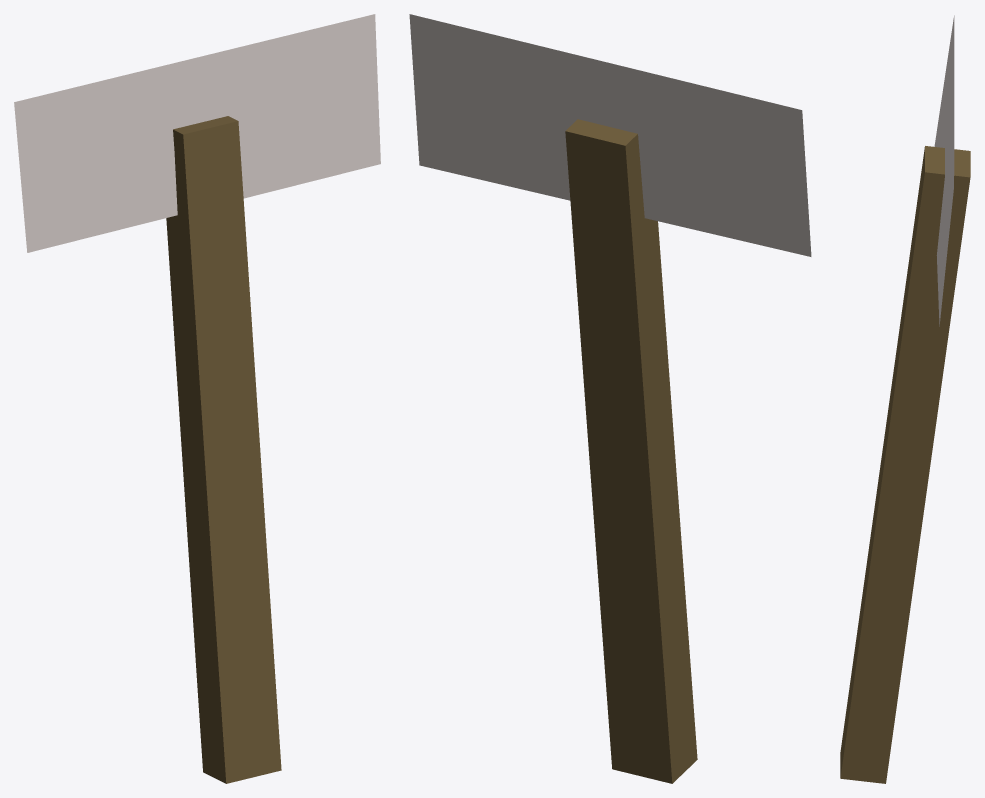
File: battleaxe.gltf
3 views of the same model, side by side, from view 1: azimuth 30°, elevation 25°; view 2: azimuth 150°, elevation 25°; view 3: azimuth 270°, elevation 25° (orthographic). The views are drawn at different scales.
Parts seen in each view (by area): view 1: Cube.001, Cube.002; view 2: Cube.001, Cube.002; view 3: Cube.001, Cube.002.
Part boxes in pixels (bbox=[...]): Cube.001: bbox=[166, 116, 281, 783]; Cube.002: bbox=[14, 14, 380, 252]; Cube.001: bbox=[565, 119, 697, 783]; Cube.002: bbox=[409, 14, 811, 256]; Cube.001: bbox=[840, 146, 970, 783]; Cube.002: bbox=[934, 15, 954, 326].
Size of the model in its own units: 4.83 by 8.73 by 1.54.
